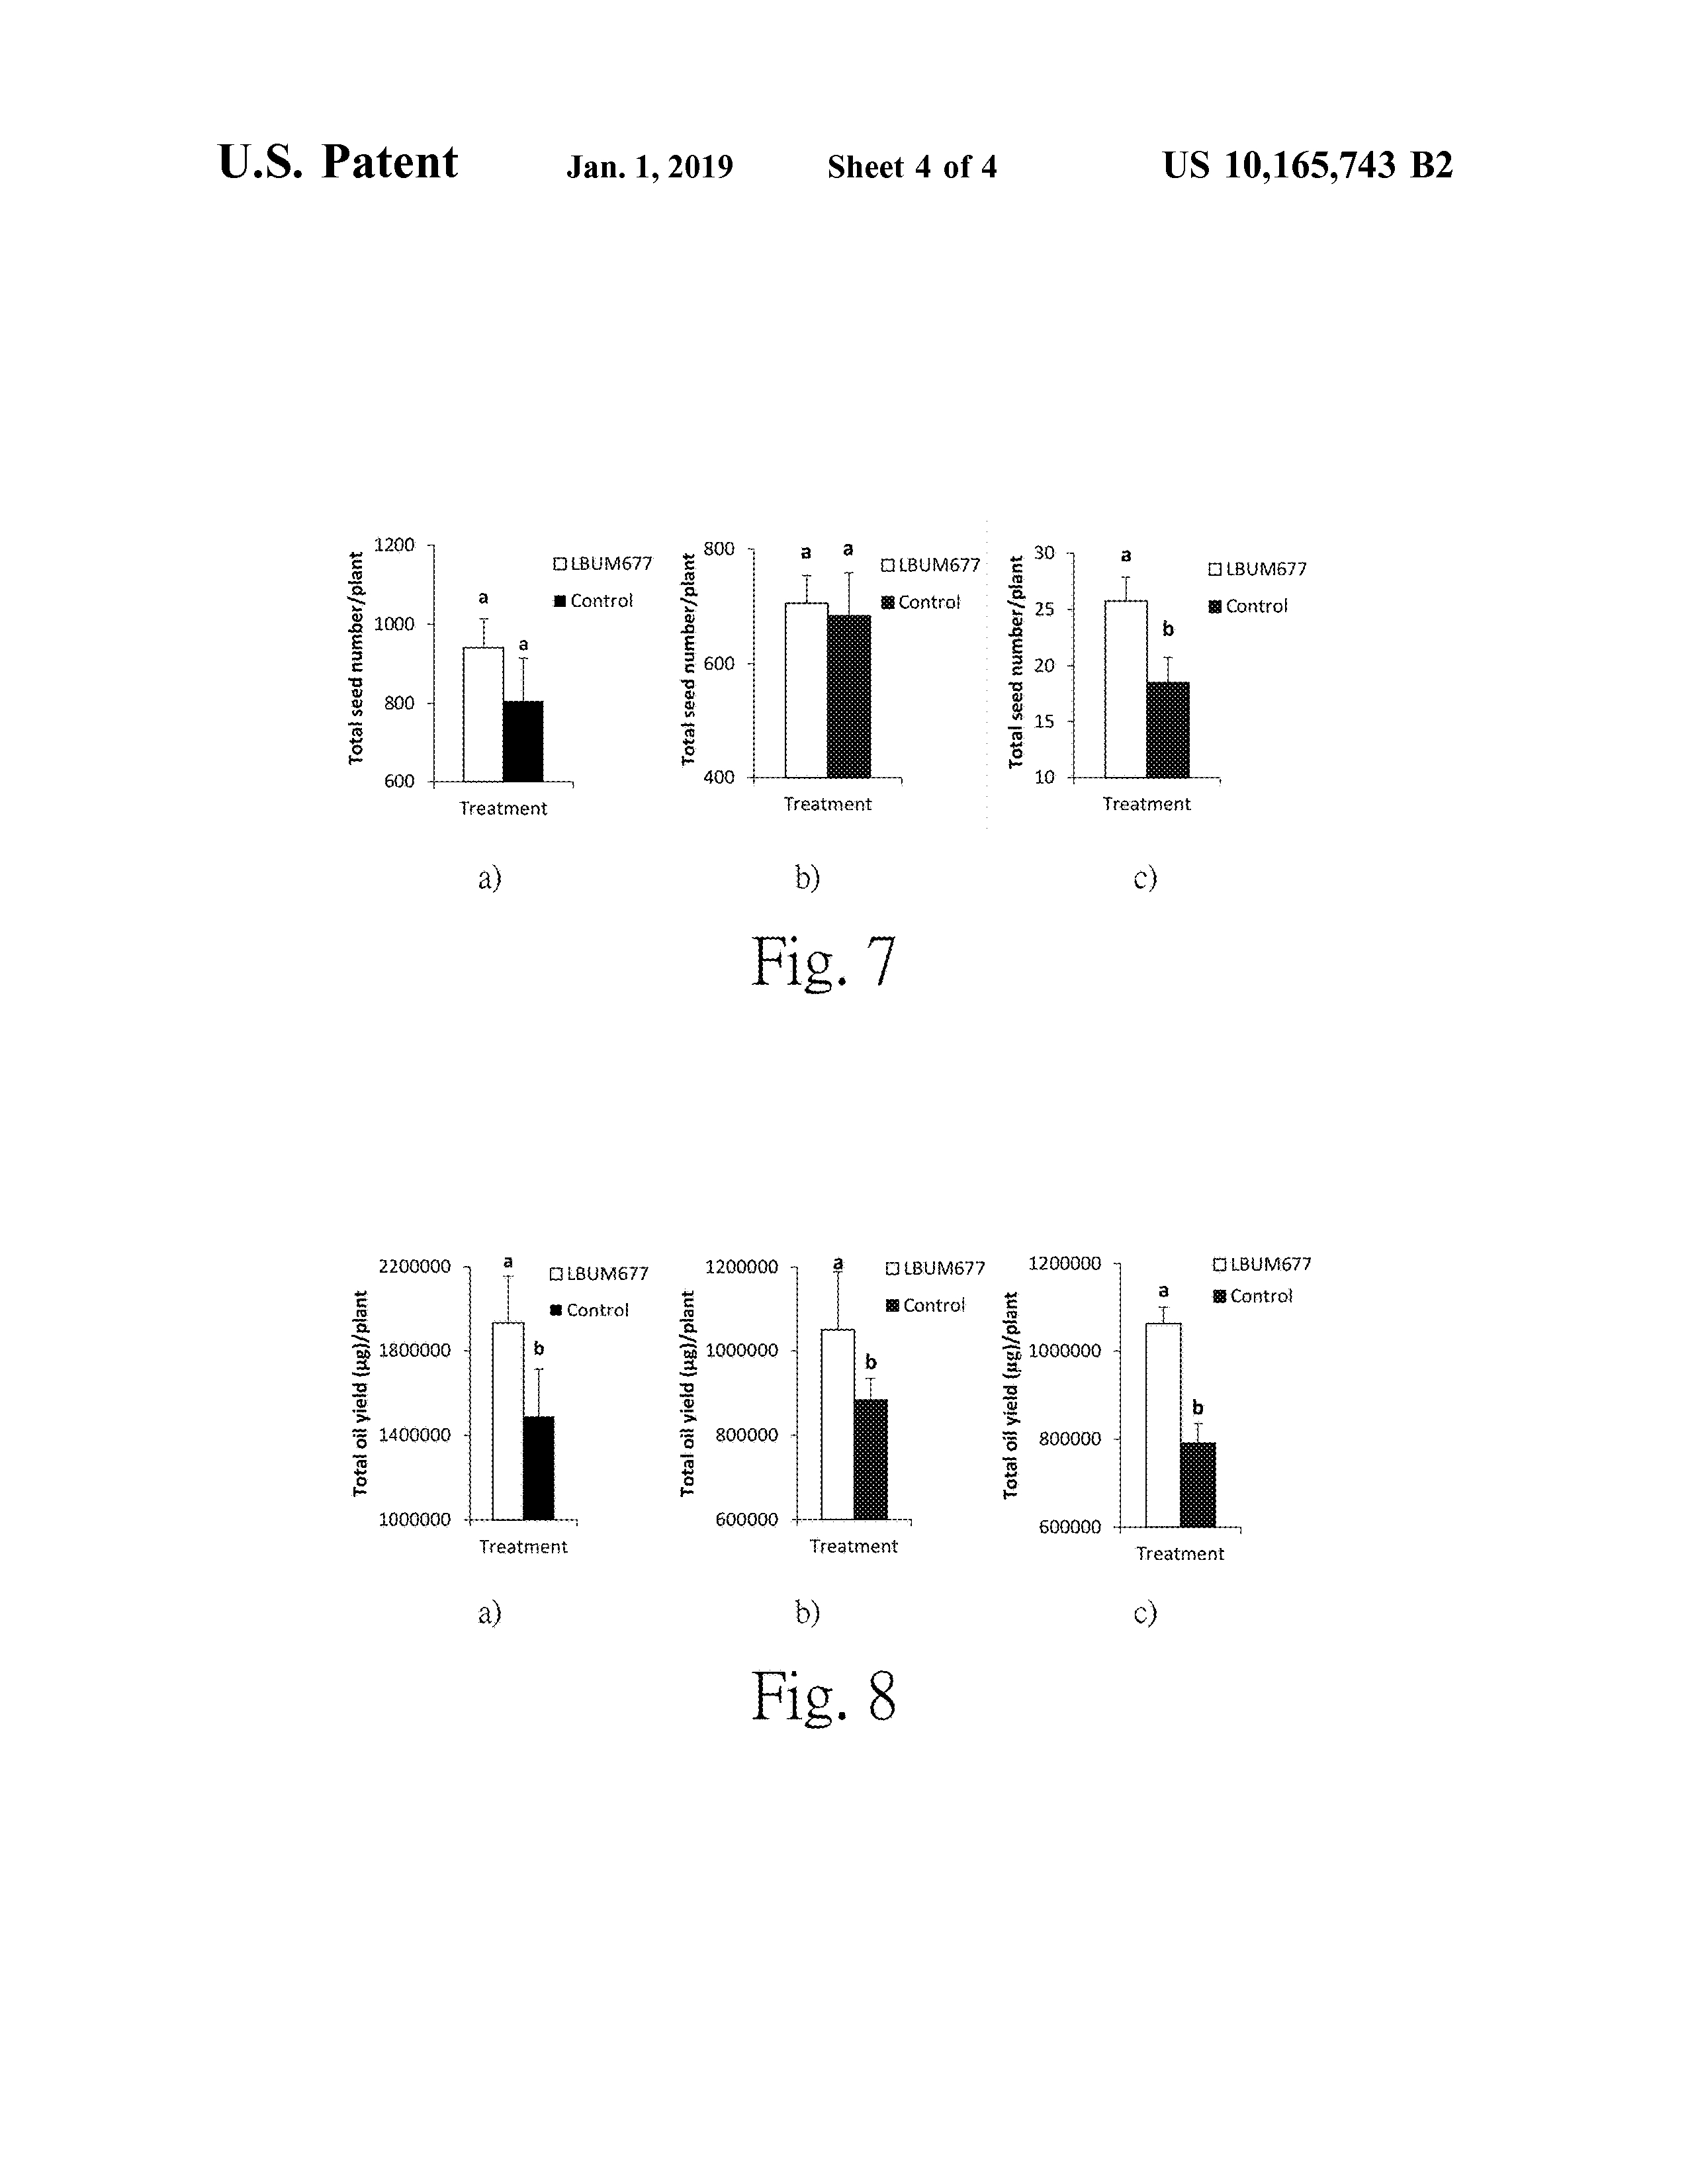patent image: (316, 1156, 1383, 1790), (286, 477, 1386, 1026)
